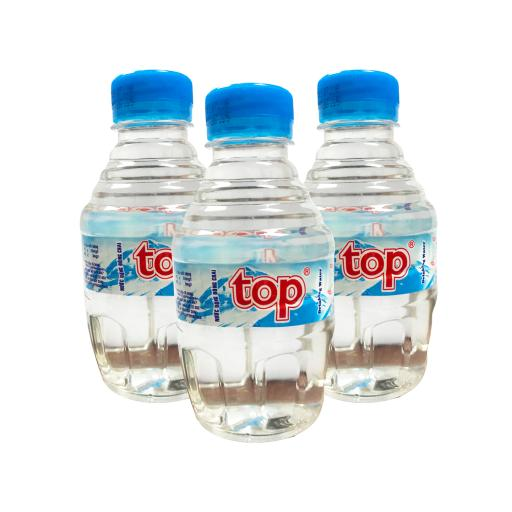bottle: (173, 83, 334, 442), (305, 70, 437, 402), (80, 70, 205, 403)
